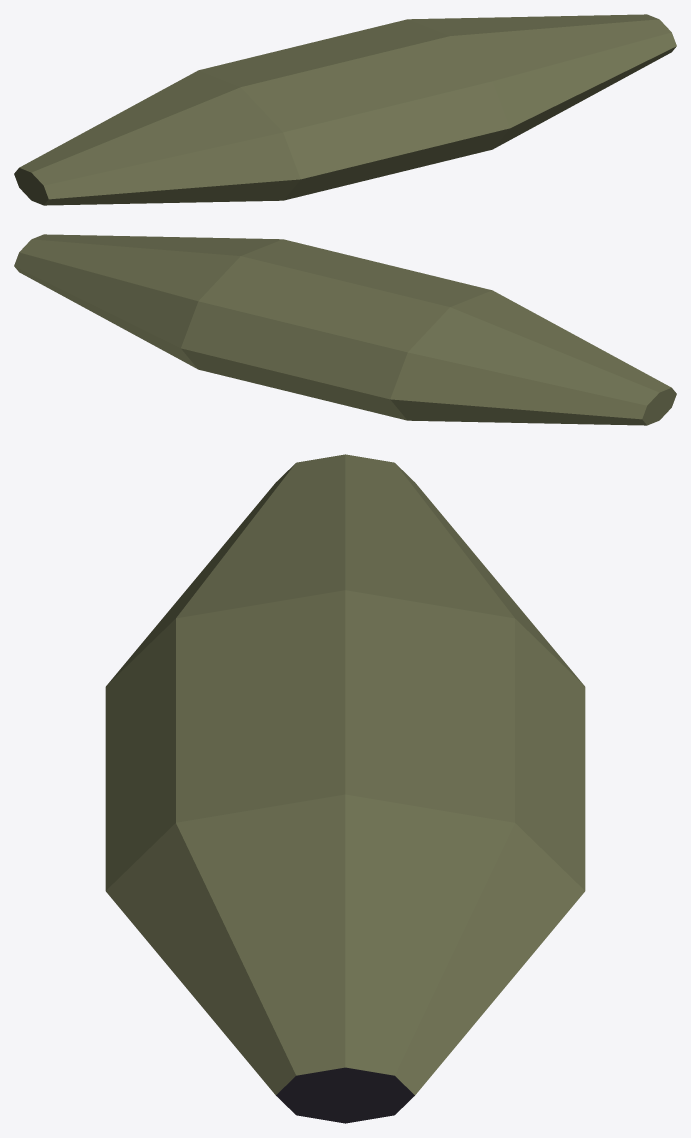
Rendered from decay.body-bag.lod2.glb.
3 views of the same model, one above another, from view 1: azimuth 30°, elevation 25°; view 2: azimuth 150°, elevation 25°; view 3: azimuth 270°, elevation 25° (orthographic). The views are drawn at different scales.
Parts seen in each view (by area): view 1: body; view 2: body; view 3: body.
Boxes of the visible parts, bbox=[...] form: body: bbox=[14, 14, 676, 205]; body: bbox=[14, 234, 676, 425]; body: bbox=[105, 454, 585, 1123].
Bounding box in the file's own units: 2.1 × 0.3087 × 0.6945.
